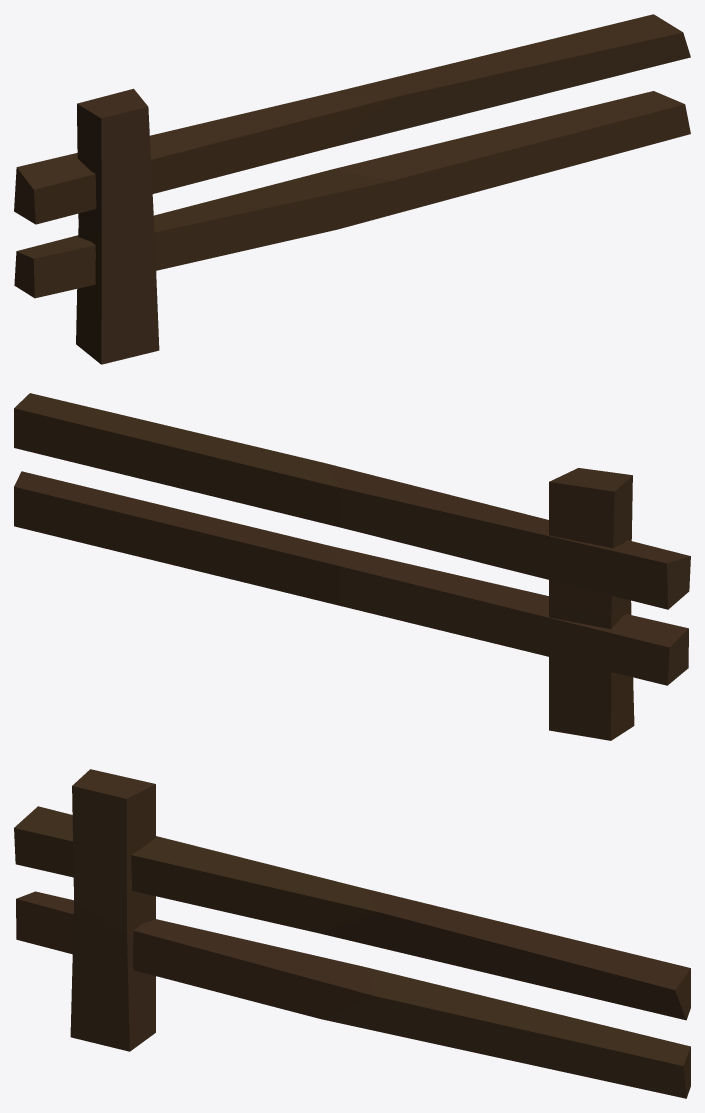
File: fence_01a.fbx
3 views of the same model, one above another, from view 1: azimuth 30°, elevation 25°; view 2: azimuth 150°, elevation 25°; view 3: azimuth 330°, elevation 25° (orthographic). The views are drawn at different scales.
Visible parts, largest first — view 1: Cube.004, Cube.002, Cube; view 2: Cube.002, Cube.004, Cube; view 3: Cube.004, Cube.002, Cube.
Boxes of the visible parts, x1,y1,x2,y2 form: Cube.004: [14, 91, 690, 298]; Cube.002: [14, 14, 690, 224]; Cube: [76, 88, 159, 364]; Cube.002: [14, 393, 690, 609]; Cube.004: [14, 471, 688, 685]; Cube: [549, 468, 634, 740]; Cube.004: [16, 891, 690, 1098]; Cube.002: [14, 806, 690, 1020]; Cube: [70, 769, 155, 1051].
Bounding box in the file's own units: 751 × 268 × 53.97.
